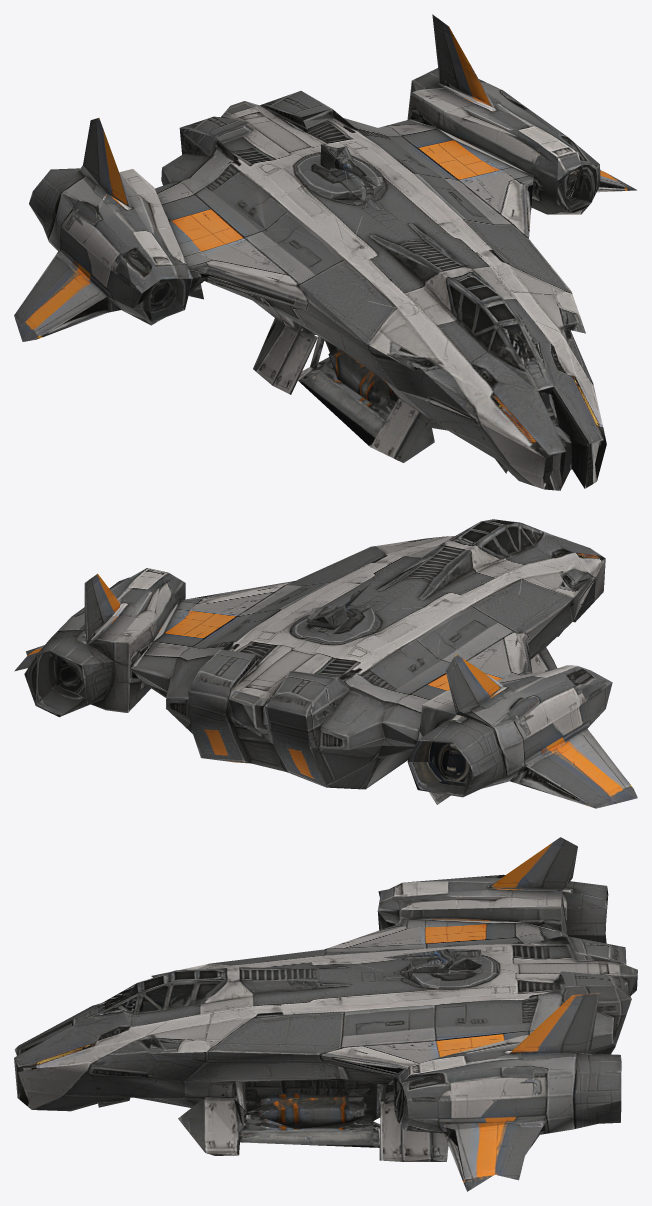
File: bomber-low.glb
3 views of the same model, one above another, from view 1: azimuth 30°, elevation 25°; view 2: azimuth 150°, elevation 25°; view 3: azimuth 270°, elevation 25° (orthographic). The views are drawn at different scales.
Visible parts, largest first — view 1: Low; view 2: Low; view 3: Low.
Part boxes in pixels (x1=…): Low: x1=14, y1=14, x2=637, y2=490; Low: x1=14, y1=519, x2=637, y2=808; Low: x1=14, y1=837, x2=637, y2=1191.
Size of the model in its own units: 1.67 by 0.5822 by 1.61.
Materials: 1 (1 with a texture image).
